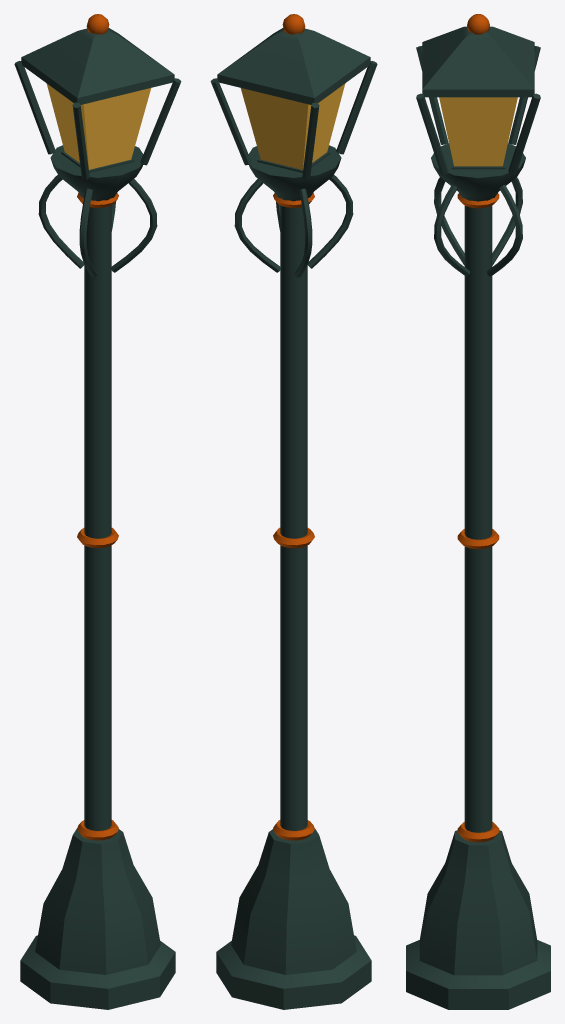
File: LampPost.obj
The picture shows the model from 3 angles, left to right: view 1: azimuth 30°, elevation 25°; view 2: azimuth 150°, elevation 25°; view 3: azimuth 270°, elevation 25°; orthographic projection.
Parts seen in each view (by area): view 1: LampPost; view 2: LampPost; view 3: LampPost.
Part boxes in pixels (x1,y1,x2,y2): LampPost: [14, 14, 181, 1009]; LampPost: [210, 14, 377, 1009]; LampPost: [406, 14, 550, 1009].
Bounding box in the file's own units: 1.37 × 10.04 × 1.37.
